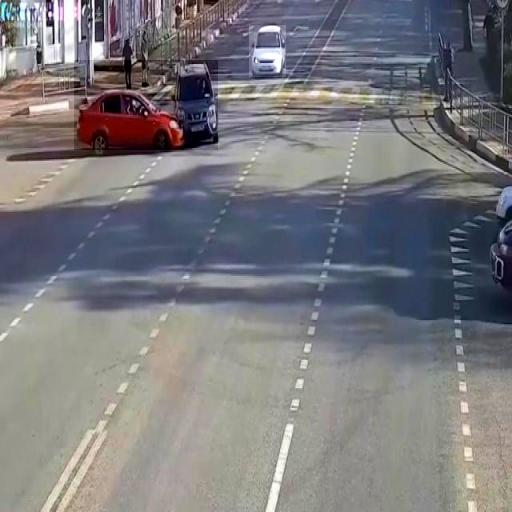小汽车: (249, 26, 286, 78)
小汽车撞小汽车: (74, 60, 218, 150)
